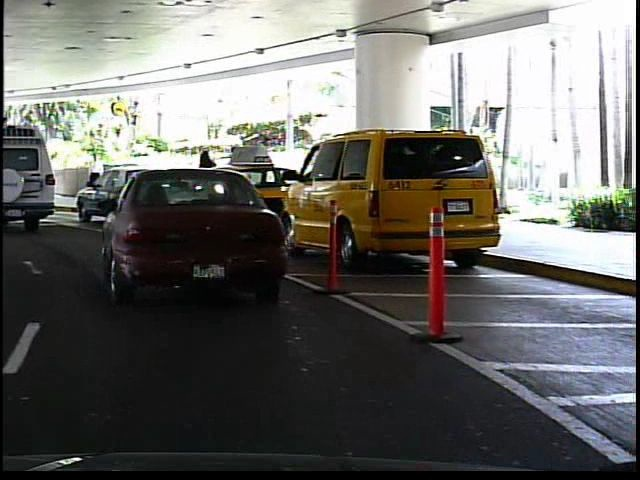person: (194, 143, 225, 207), (228, 140, 254, 206), (84, 146, 107, 201), (18, 156, 38, 197)
